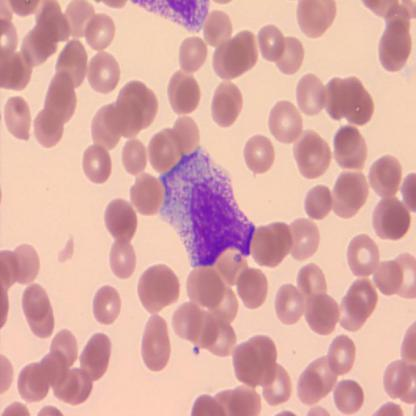Myelocyte: (162, 151, 255, 264)
